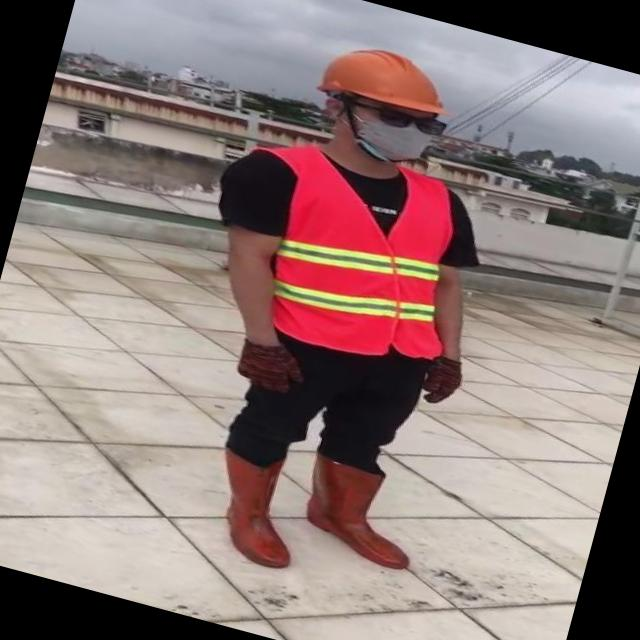hard_hat: (307, 30, 465, 126)
safety_vest: (254, 140, 482, 376)
vehicle: (114, 13, 555, 613)
work_boots: (290, 450, 432, 572), (198, 445, 315, 571)
